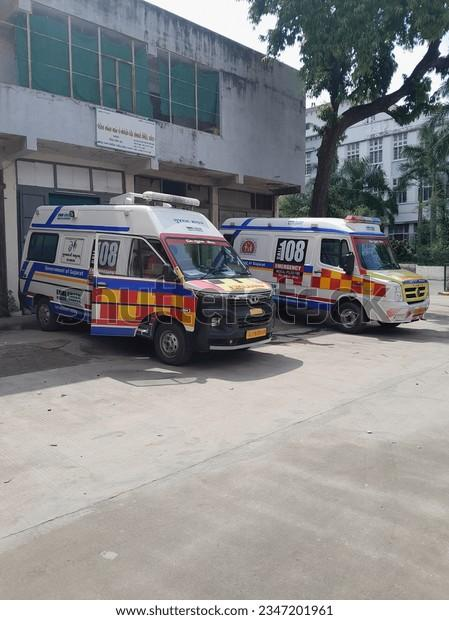ER: (21, 190, 275, 367), (223, 214, 434, 331)
